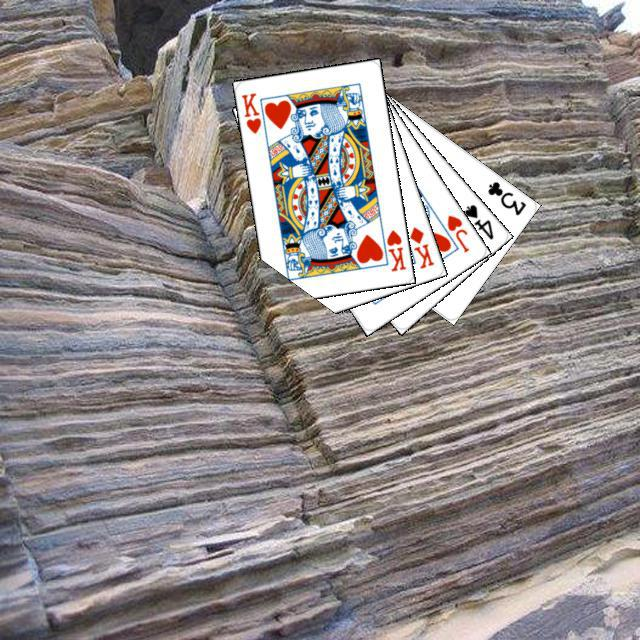3c: (483, 176, 528, 217)
4s: (459, 199, 495, 241)
Jh: (442, 210, 471, 254)
Kd: (405, 222, 436, 270)
Kh: (376, 222, 407, 273), (236, 88, 263, 135)
